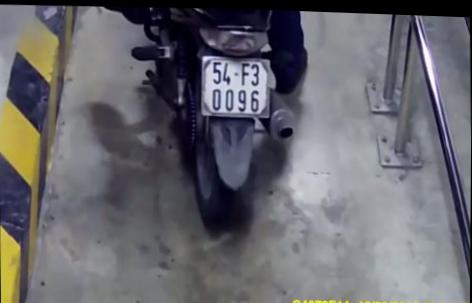LP: (199, 50, 273, 118)
